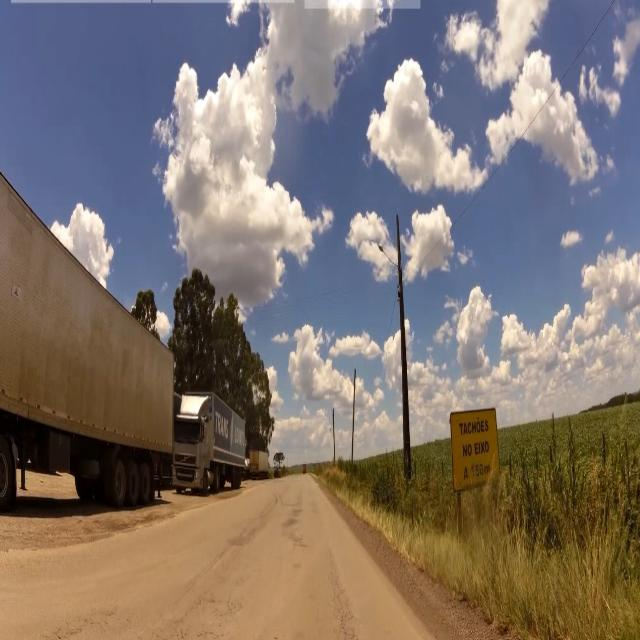ESP-20: (451, 402, 500, 485)
